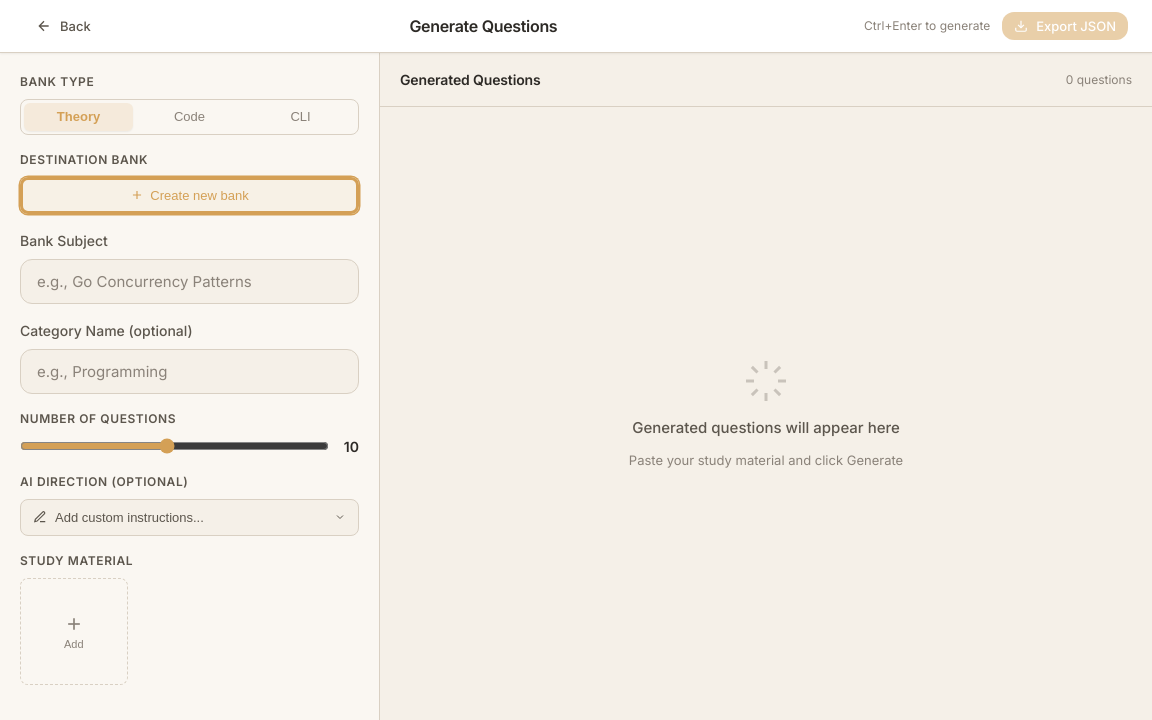
it: AIGenerateView replace confirmation › generating over existing questions asks first and generates nothing yet
Type "Closures" into the field labelled "Bank Subject". click: (190, 281)
box: [20,259,359,304]
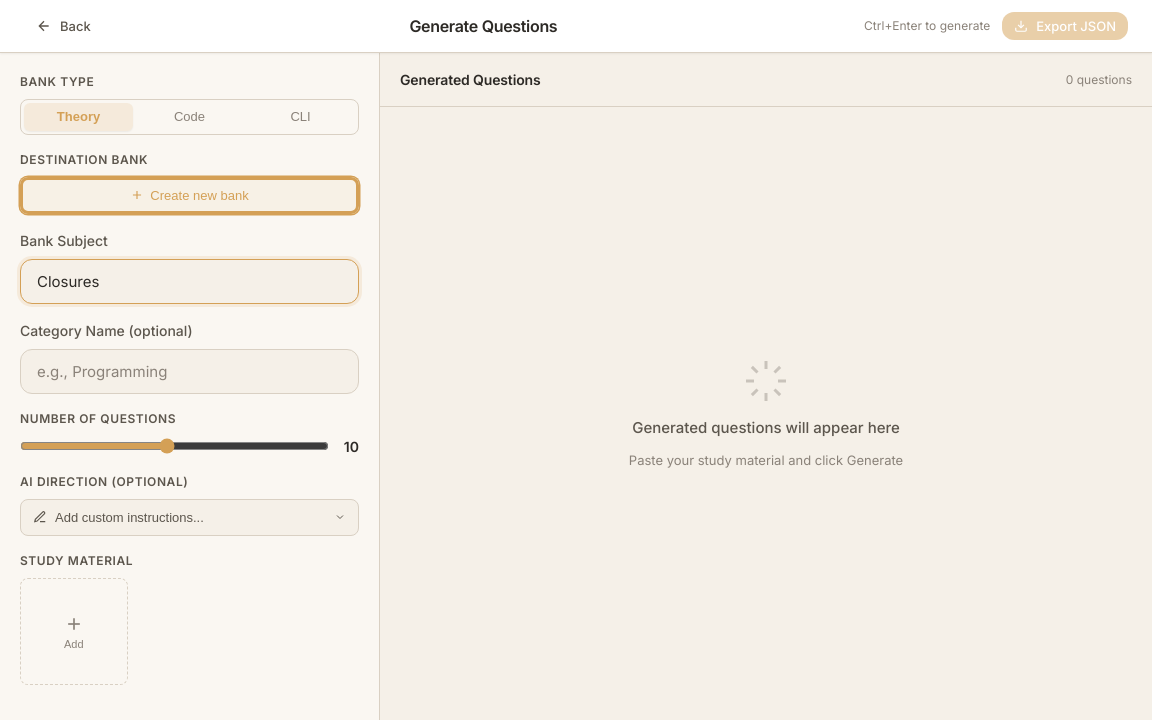
Click the button "Add". click: (74, 632)
box: [20,578,128,686]
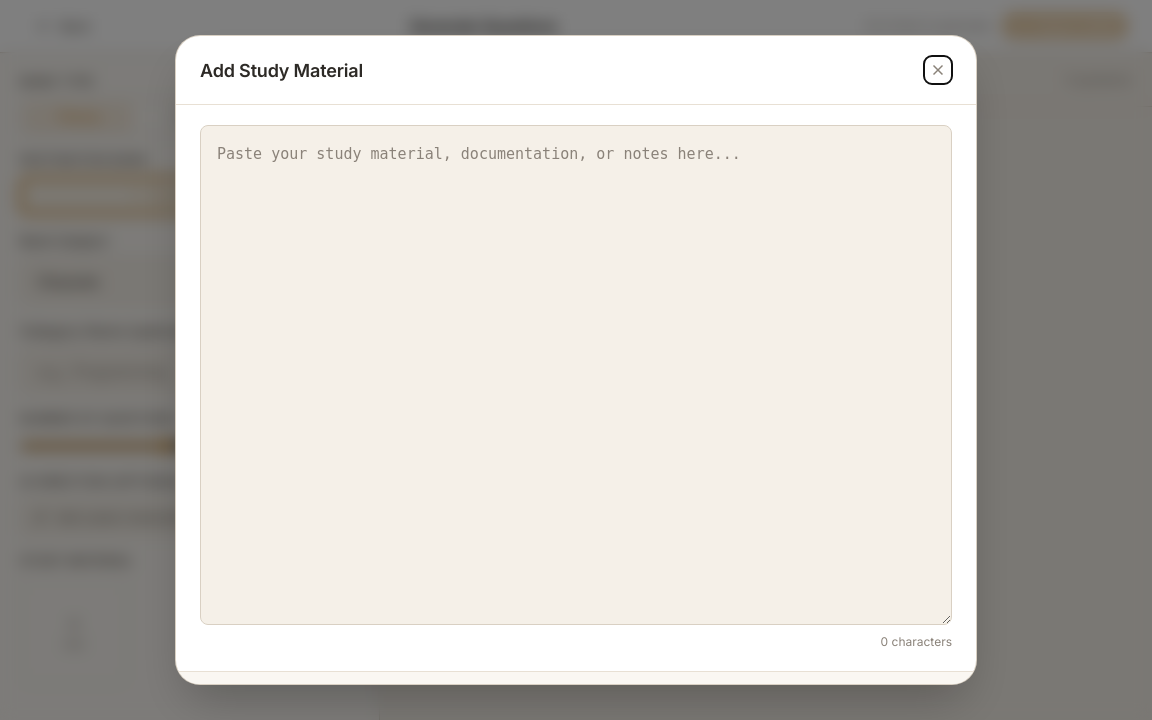
Type "Closures capture their surrounding scope." into the text box with placeholder "Paste your study material, documentation, or notes here...". click: (576, 375)
box: [200,125,952,625]
(page scrolled)
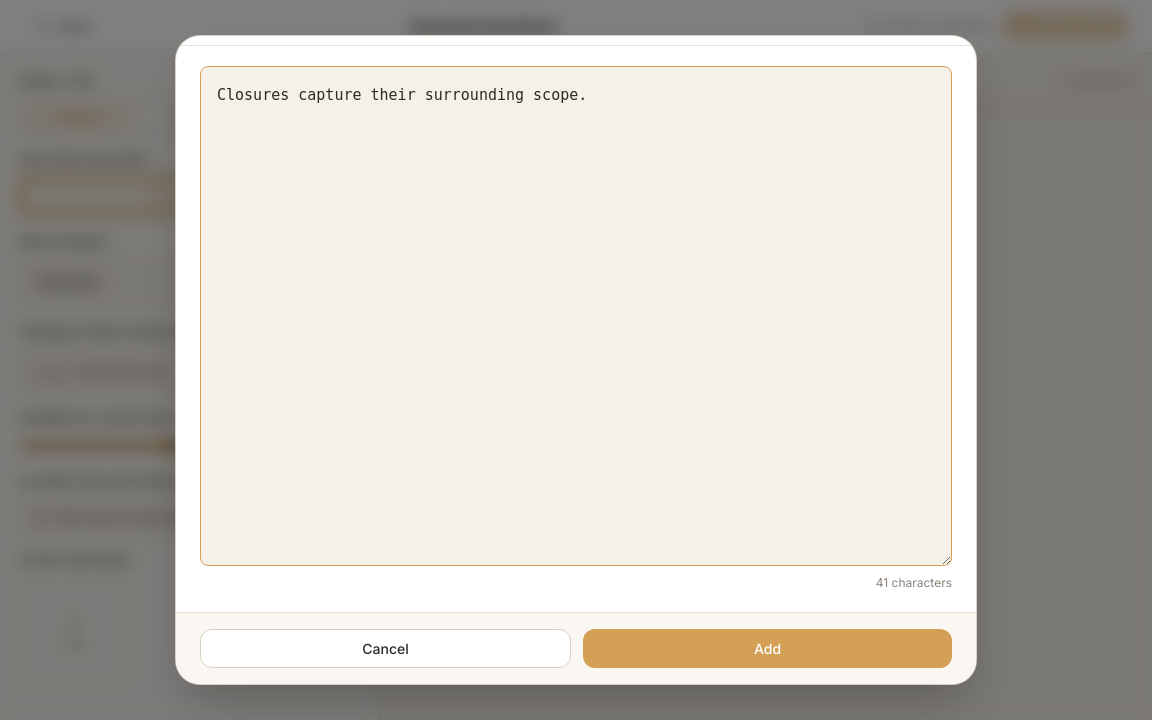
Click the button "Add". click: (768, 648)
box: [583,629,952,668]
(page scrolled)
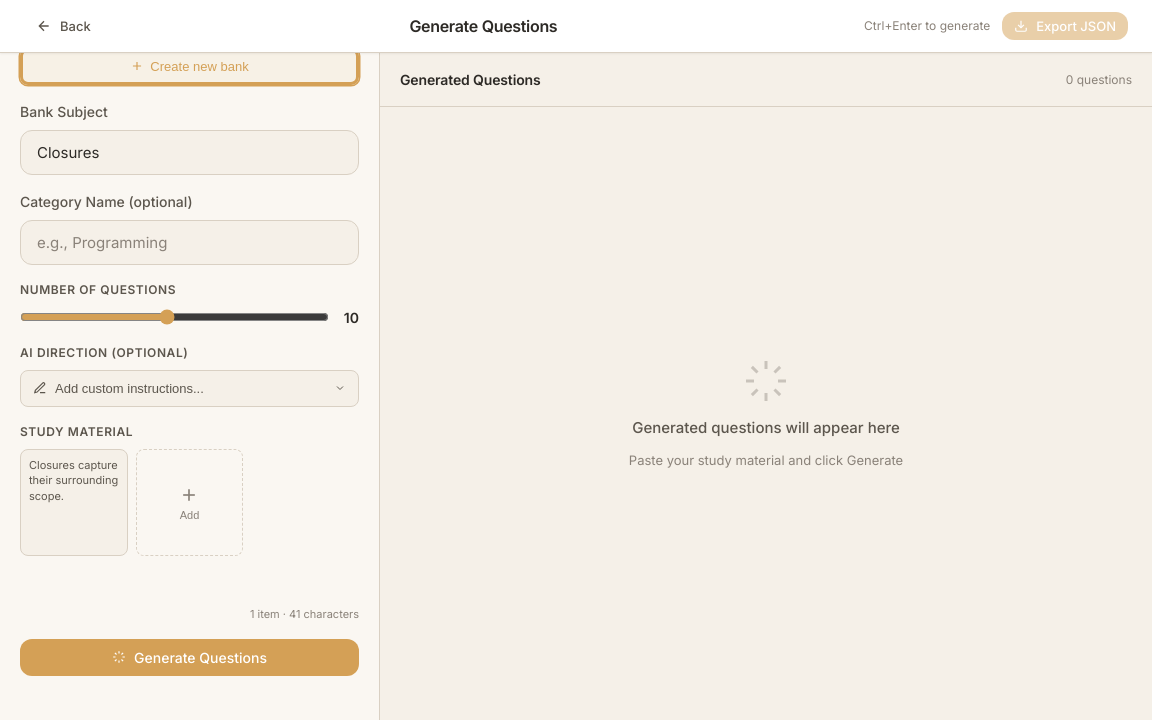
Expected: the dialog is gone
Click the button "Generate Questions". click: (190, 657)
box: [20,639,359,676]
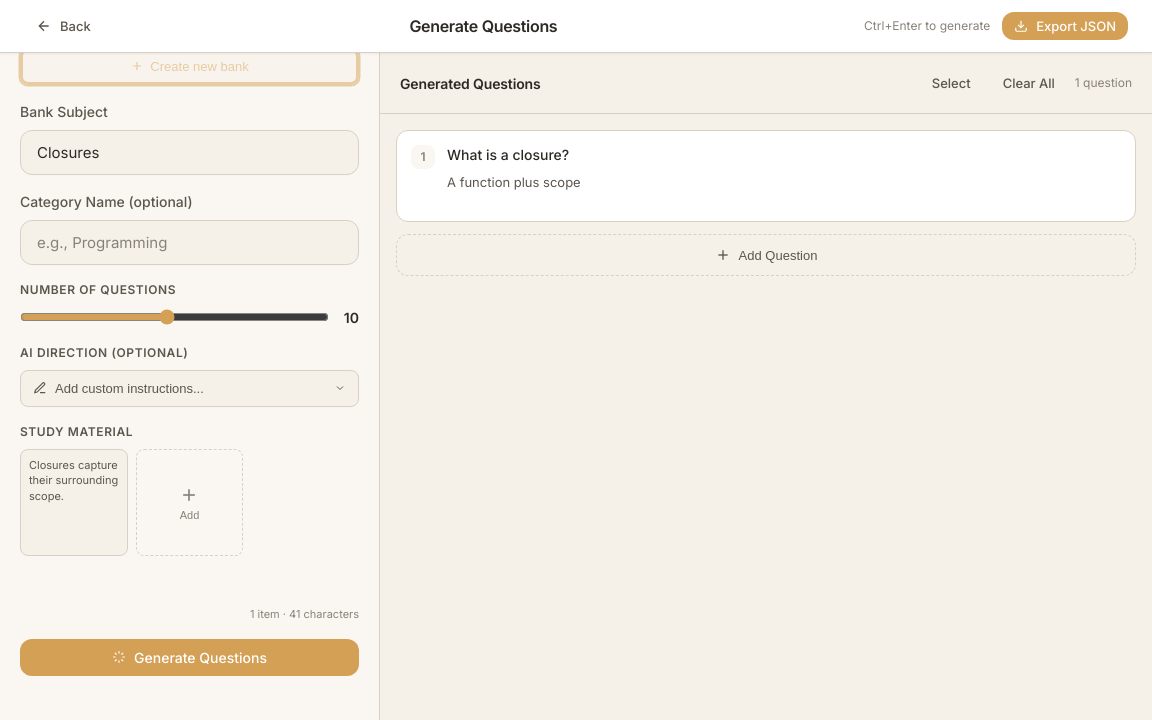
Expected: the text "What is a closure?" is shown, [447,146,569,163]
Click the button "Generate Questions". click: (190, 657)
box: [20,639,359,676]
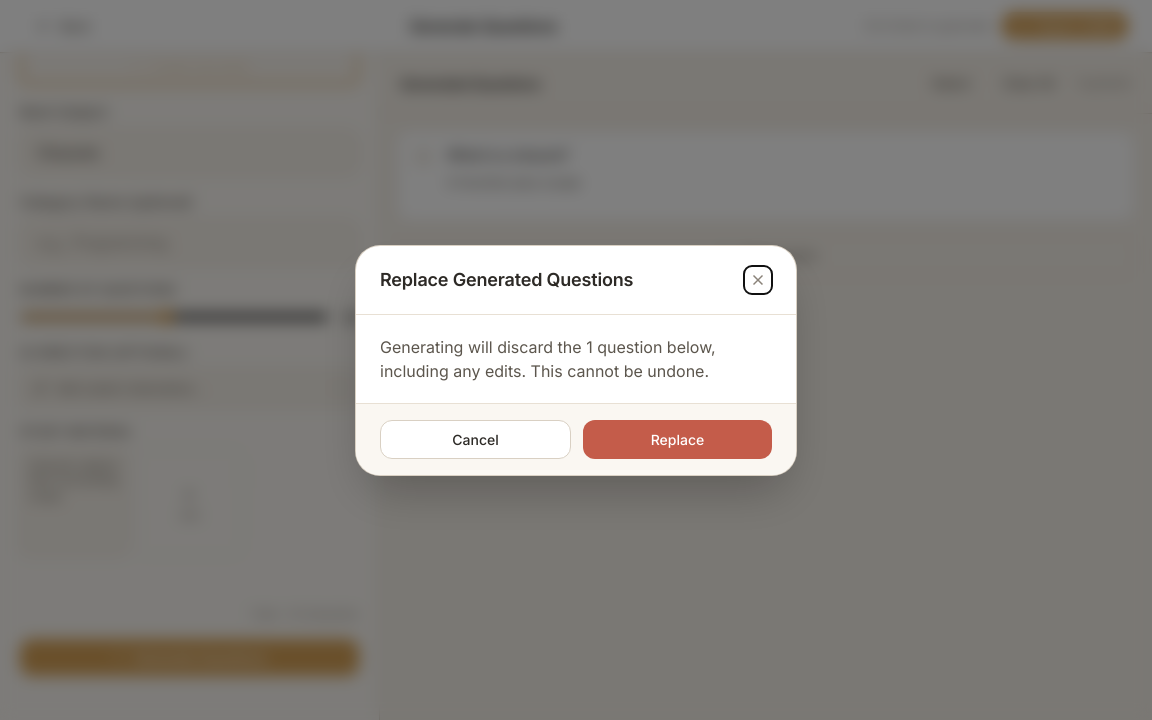
Expected: the dialog shows "discard the 1 question below", [356,246,796,474]
